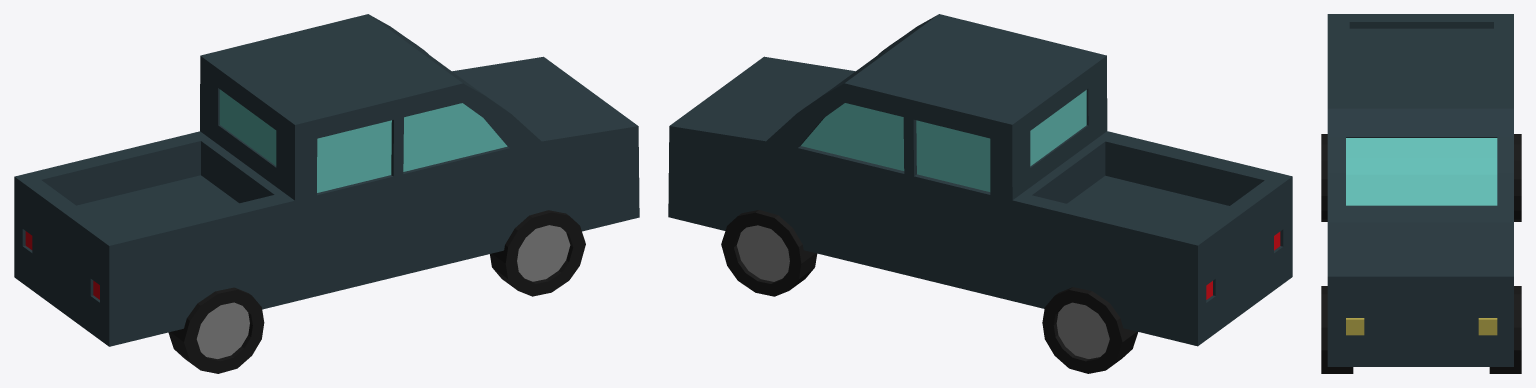
The model's file is Camioneta4.fbx.
3 renders of one model, left to right at view 1: azimuth 30°, elevation 25°; view 2: azimuth 150°, elevation 25°; view 3: azimuth 270°, elevation 25°, orthographic.
Visible parts, largest first — view 1: Camioneta; view 2: Camioneta; view 3: Camioneta.
Part boxes in pixels (x1=…): Camioneta: x1=14, y1=14, x2=639, y2=373; Camioneta: x1=668, y1=14, x2=1292, y2=373; Camioneta: x1=1321, y1=14, x2=1521, y2=373.
Size of the model in its own units: 2925 by 1193 by 968.
